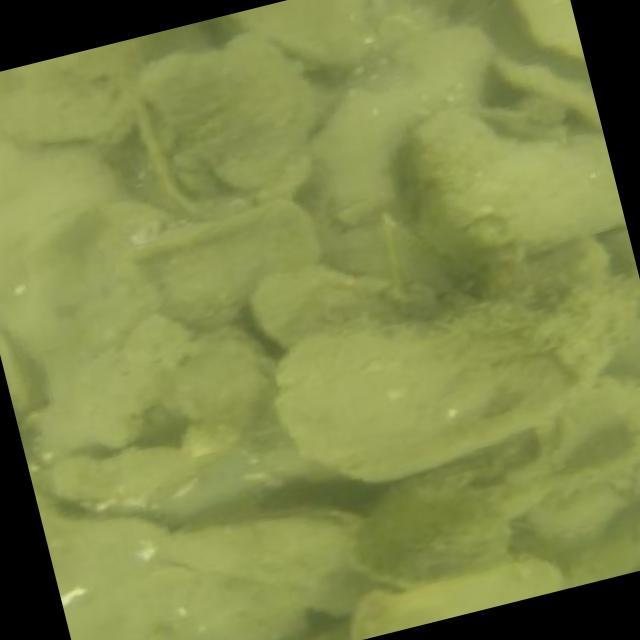Oyster- Indeterminate: (269, 272, 640, 478), (321, 27, 491, 223), (155, 508, 405, 616), (350, 449, 513, 590), (0, 37, 145, 142), (247, 264, 433, 344), (219, 0, 362, 66), (167, 333, 274, 419), (509, 0, 585, 62)
Oyster-Closed: (401, 106, 601, 269), (135, 38, 311, 206), (141, 203, 321, 325), (57, 443, 182, 505), (569, 509, 640, 582)
Oyster-Open: (552, 407, 638, 482)
